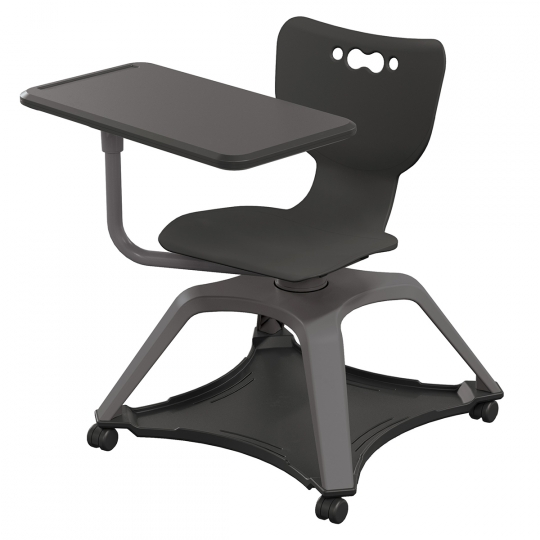desk_072.jpg: (11, 7, 513, 529)
